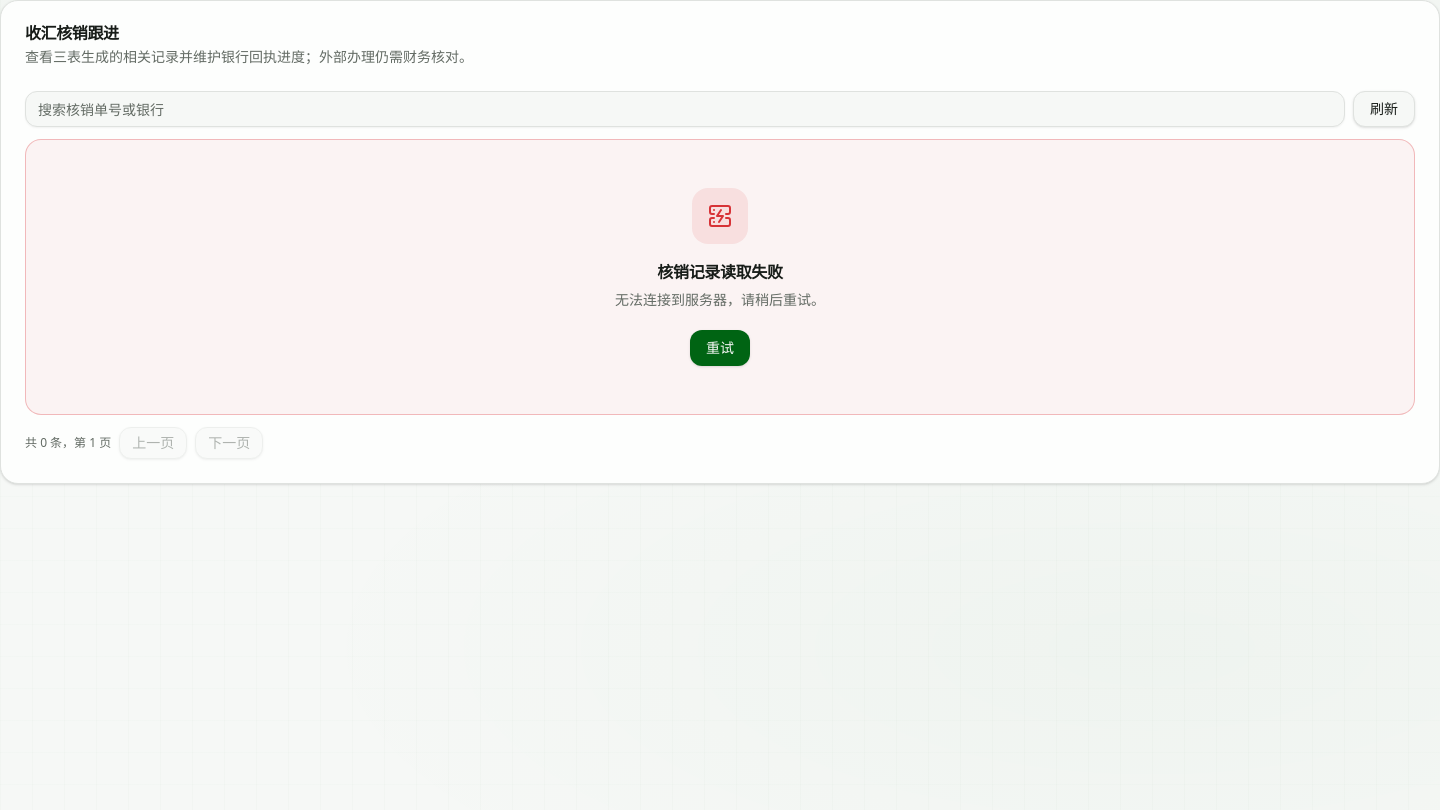
Scenario: 读取失败显式重试
Expected: the heading "核销记录读取失败" is shown, [657,260,783,284]
Click the button "重试". click: {"x": 720, "y": 348}
box: [690,330,750,366]
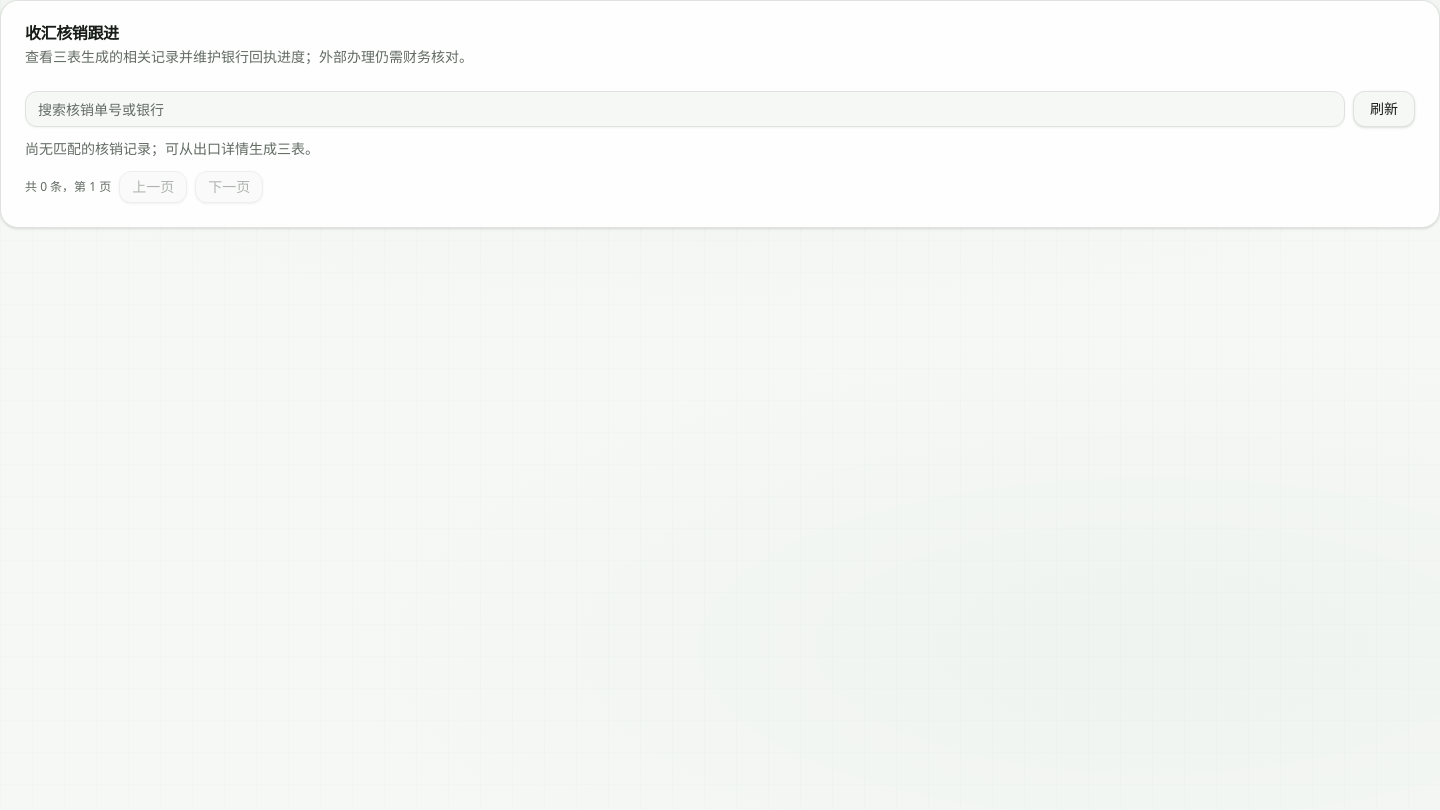
Expected: the text "尚无匹配的核销记录；可从出口详情生成三表。" is shown, [25,139,319,158]
